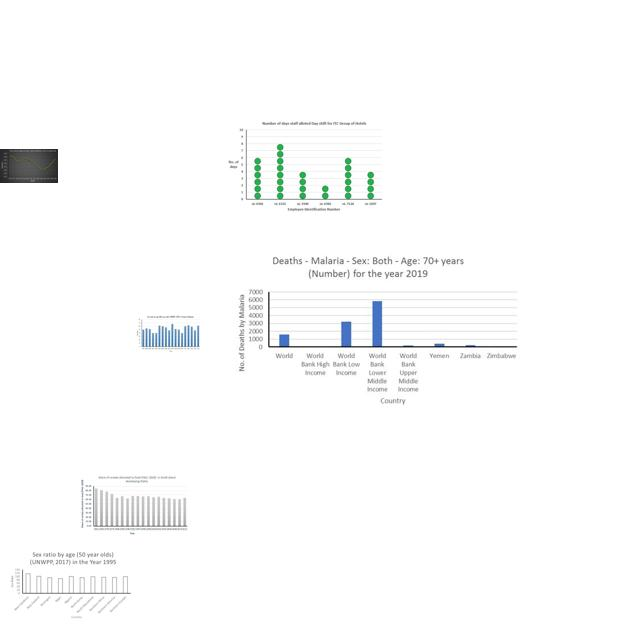Graph: (236, 253, 519, 408), (225, 120, 385, 214), (8, 550, 133, 620), (79, 474, 190, 536), (135, 315, 201, 353), (0, 149, 58, 183)
